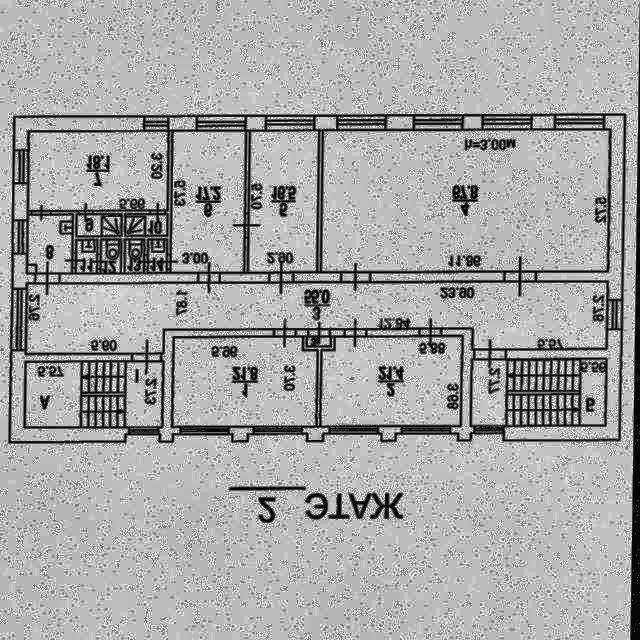room: (27, 280, 609, 355), (323, 132, 610, 272), (173, 337, 319, 427), (322, 337, 464, 426), (29, 132, 168, 211), (172, 131, 246, 273), (249, 131, 319, 274), (472, 360, 608, 427), (27, 362, 163, 427), (28, 215, 73, 274), (77, 215, 123, 236), (126, 216, 168, 235), (125, 240, 145, 275), (102, 240, 122, 274), (78, 240, 98, 273), (149, 240, 168, 274), (308, 337, 332, 347)
